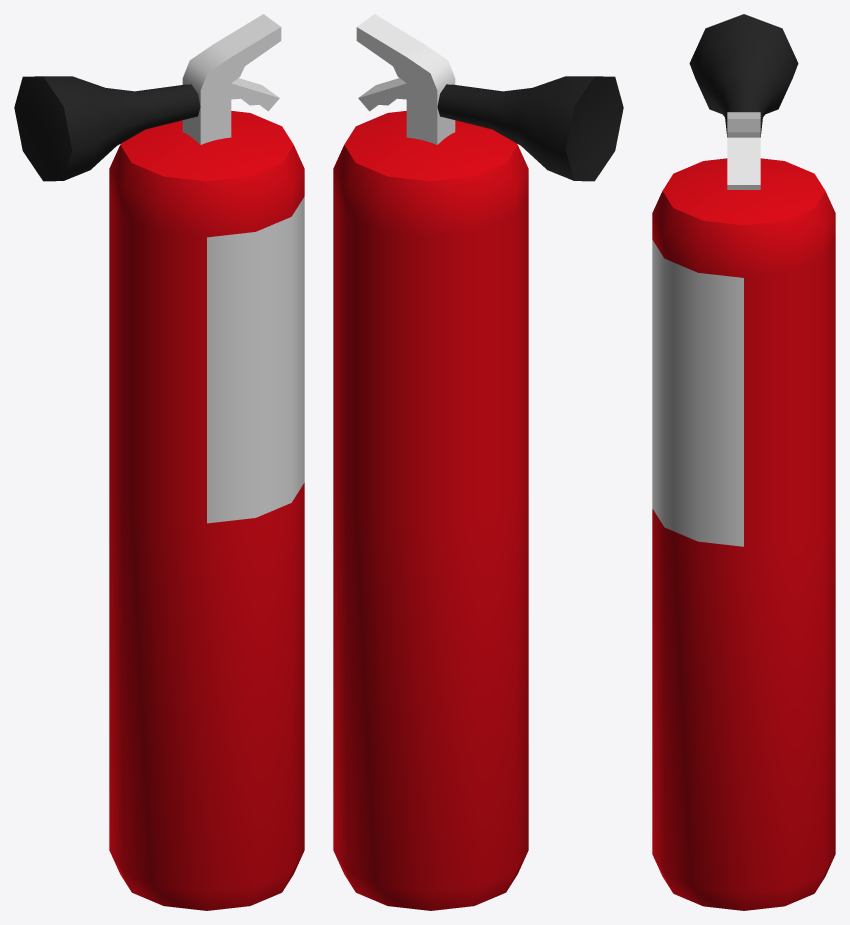
File: FireExtinguisher.fbx
3 views of the same model, side by side, from view 1: azimuth 30°, elevation 25°; view 2: azimuth 150°, elevation 25°; view 3: azimuth 270°, elevation 25° (orthographic). The views are drawn at different scales.
Visible parts, largest first — view 1: Fire Extinguisher; view 2: Fire Extinguisher; view 3: Fire Extinguisher.
Boxes of the visible parts, bbox=[...] form: Fire Extinguisher: bbox=[14, 14, 304, 910]; Fire Extinguisher: bbox=[333, 14, 623, 910]; Fire Extinguisher: bbox=[652, 14, 835, 910].
Size of what is drawn, in the model's own units: 0.1908 by 0.6254 by 0.13.
